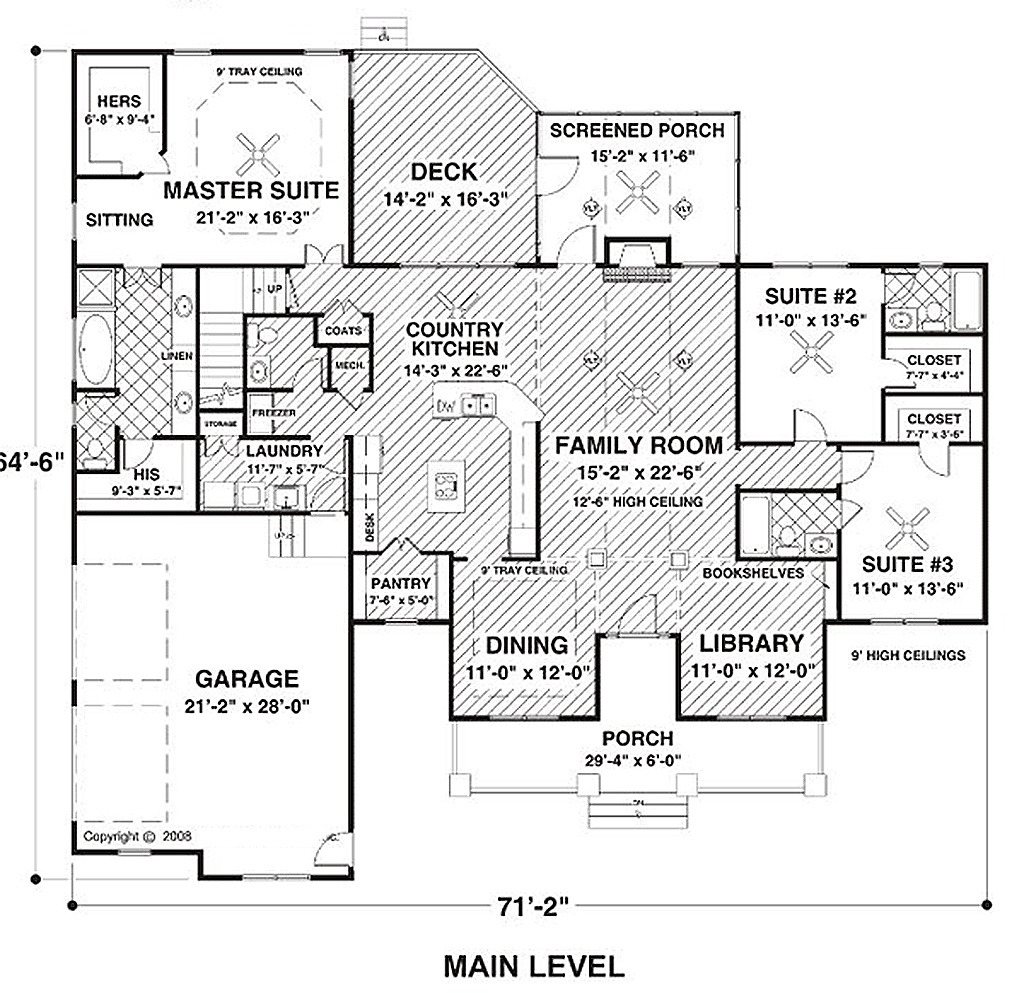door: (309, 821, 380, 873), (554, 220, 605, 280), (614, 590, 669, 640), (534, 157, 585, 203), (883, 352, 926, 400), (131, 144, 186, 181), (782, 404, 837, 440), (82, 390, 128, 433), (917, 441, 965, 480), (125, 433, 162, 478), (832, 449, 871, 486), (297, 240, 349, 267), (371, 532, 426, 557), (195, 432, 245, 458), (291, 357, 326, 393), (315, 301, 375, 320), (329, 383, 366, 413)
large_sink: (69, 429, 105, 473), (242, 313, 285, 349), (917, 301, 946, 332)
sink: (275, 483, 315, 515)
small_sink: (166, 266, 198, 350), (169, 377, 197, 437), (885, 303, 915, 330)
tub: (66, 306, 115, 389), (946, 261, 986, 330)
twin_sink: (448, 384, 506, 423)
window: (717, 709, 826, 730), (865, 607, 946, 630), (480, 704, 563, 724), (772, 252, 852, 272), (231, 864, 311, 884), (302, 41, 351, 61), (682, 253, 731, 273), (102, 841, 158, 858), (169, 46, 212, 60)
